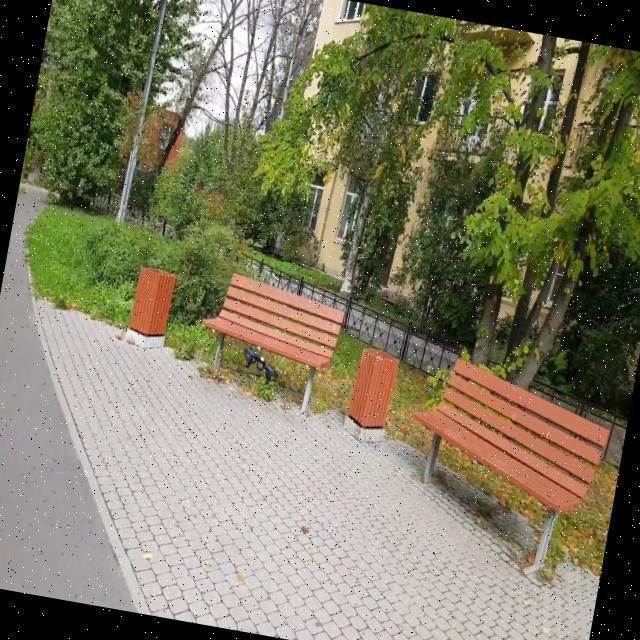Drons: (237, 346, 283, 388)
